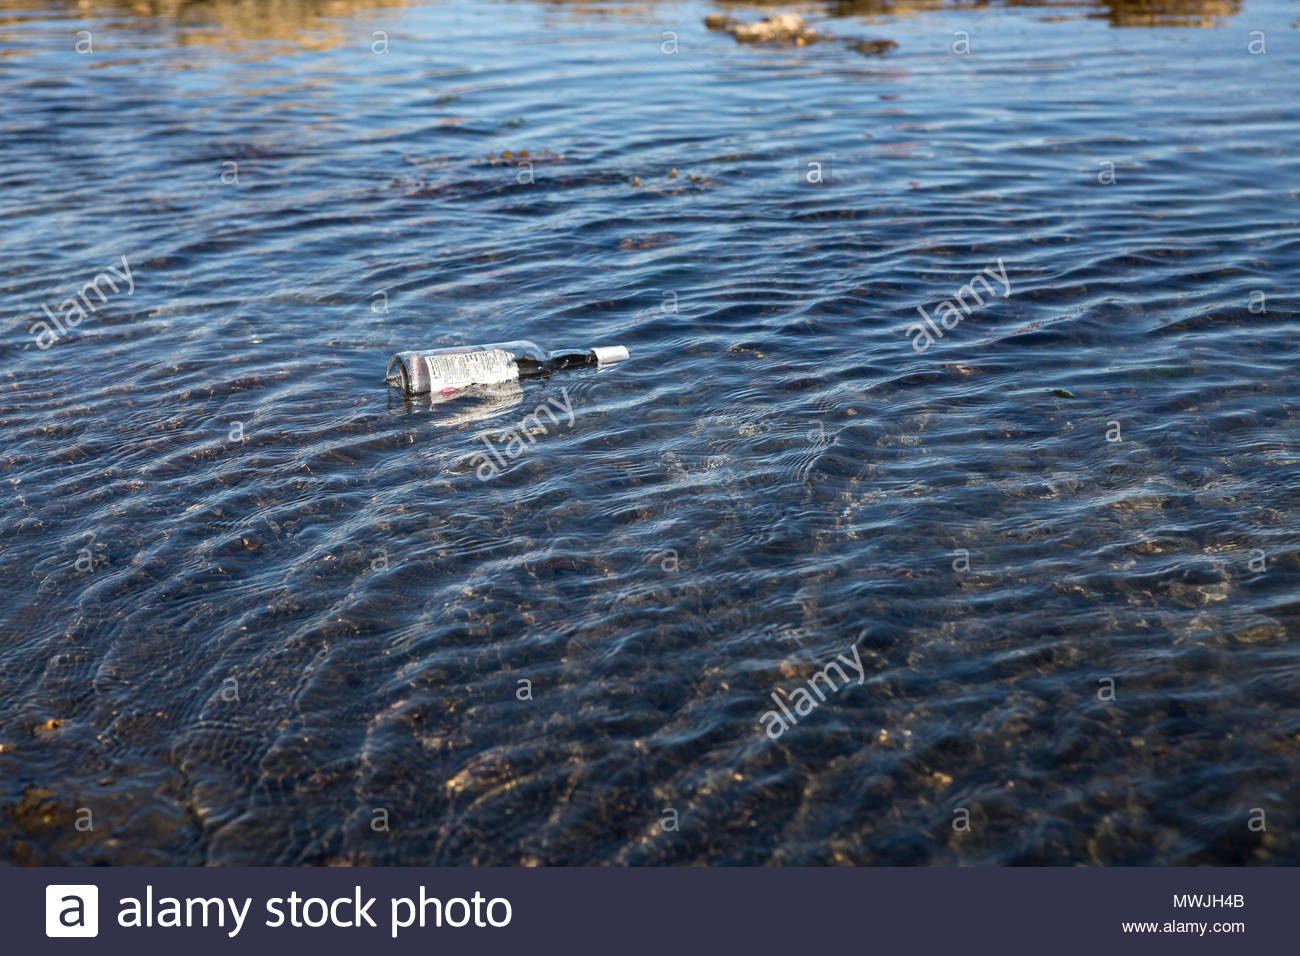bottle: (387, 332, 629, 410)
